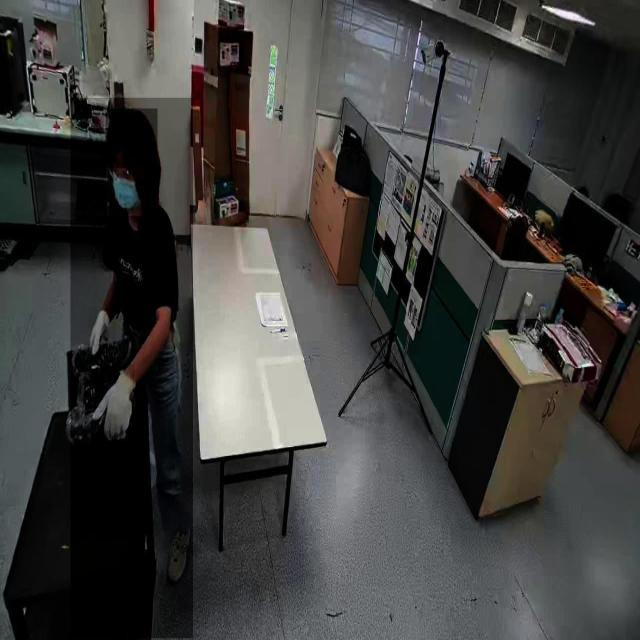face_mask: (106, 168, 144, 216)
hand_glove: (95, 364, 135, 452), (88, 306, 116, 362)
head_nohelmet: (106, 108, 158, 154)
person: (70, 98, 194, 639)
